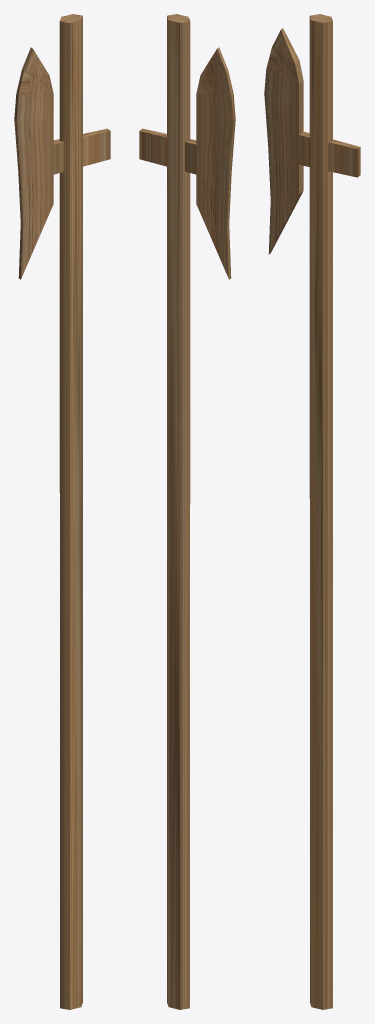
Rendered from wooden-halberd.obj.
3 views of the same model, side by side, from view 1: azimuth 30°, elevation 25°; view 2: azimuth 150°, elevation 25°; view 3: azimuth 330°, elevation 25° (orthographic).
Parts seen in each view (by area): view 1: Mesh_Mesh_KingdomPolea.000; view 2: Mesh_Mesh_KingdomPolea.000; view 3: Mesh_Mesh_KingdomPolea.000.
Part boxes in pixels (<box>): Mesh_Mesh_KingdomPolea.000: <box>14,14,110,1009</box>; Mesh_Mesh_KingdomPolea.000: <box>139,14,235,1009</box>; Mesh_Mesh_KingdomPolea.000: <box>264,14,360,1009</box>.
Size of the model in its own units: 0.2514 by 2.53 by 0.0397.
2 materials, 2 textured.
